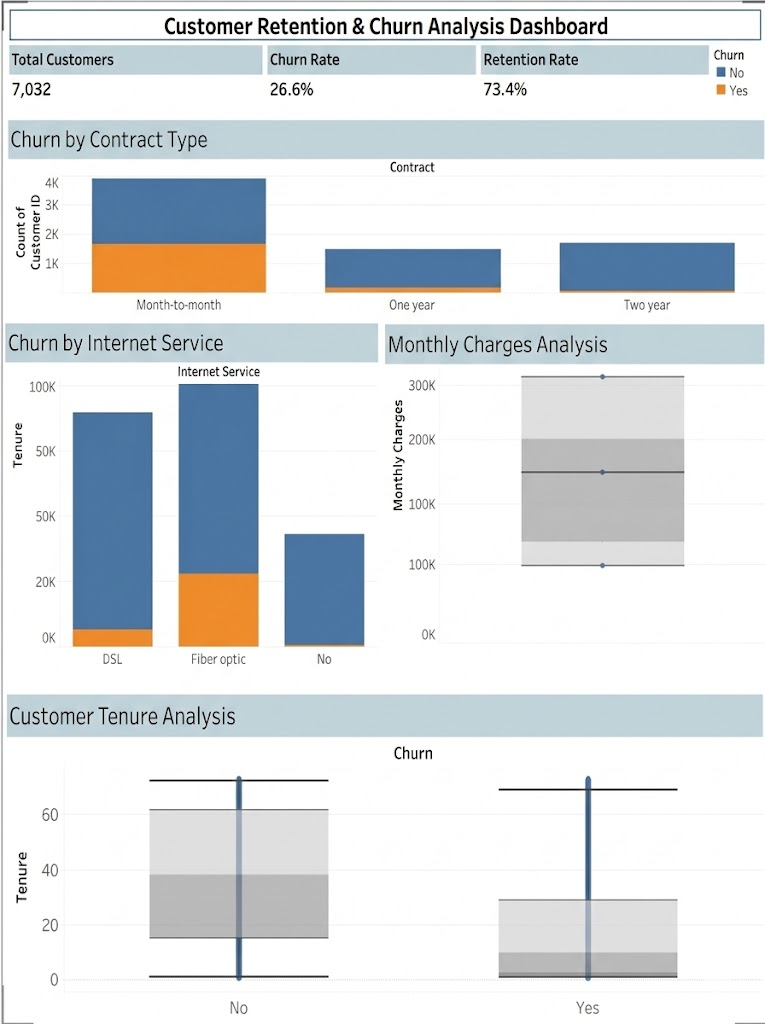

Layout of this report page (visuals, bound fields, positions):
{"tool":"tableau","page":{"name":" Customer Retention & Churn Analysis Dashboard","canvas":[650,860],"ordinal":0},"visuals":[{"type":"title","box":[8,8,634,96]},{"type":"worksheet","title":"Total Customers","mark":"Automatic","box":[8,104,185,136.9]},{"type":"worksheet","title":"Churn Rate","mark":"Automatic","box":[193,104,181.5,86]},{"type":"worksheet","title":"Retention Rate","mark":"Automatic","box":[374.5,104,181.5,748]},{"type":"legend","title":"Churn by Contract Type","param":"[federated.0wlgyas08j0bwf1blwffh1gomvmj].[none:Churn:nk]","box":[556,104,86,84]},{"type":"worksheet","title":"Monthly Charges Analysis","mark":"Circle","rows":["MonthlyCharges"],"box":[193,190,181.5,662]},{"type":"worksheet","title":"Churn by Contract Type","mark":"Automatic","rows":["customerID"],"cols":["Contract"],"box":[8,240.9,185,305.5]},{"type":"worksheet","title":"Churn by Internet Service","mark":"Automatic","rows":["tenure"],"cols":["InternetService"],"box":[8,546.4,185,152.8]},{"type":"worksheet","title":"Customer Tenure Analysis","mark":"Circle","rows":["tenure"],"cols":["Churn"],"box":[8,699.2,185,152.8]}]}

Visuals, with their boxes in screenshot pixels (x1, y1, x2, y2), scaled from the page's 650x860 canvas onto the 765x1024 screenshot:
title: pyautogui.locateOnScreen(9, 10, 756, 124)
"Total Customers" worksheet: pyautogui.locateOnScreen(9, 124, 227, 287)
"Churn Rate" worksheet: pyautogui.locateOnScreen(227, 124, 441, 226)
"Retention Rate" worksheet: pyautogui.locateOnScreen(441, 124, 654, 1014)
"Churn by Contract Type" legend: pyautogui.locateOnScreen(654, 124, 756, 224)
"Monthly Charges Analysis" worksheet (Circle marks): pyautogui.locateOnScreen(227, 226, 441, 1014)
"Churn by Contract Type" worksheet: pyautogui.locateOnScreen(9, 287, 227, 651)
"Churn by Internet Service" worksheet: pyautogui.locateOnScreen(9, 651, 227, 833)
"Customer Tenure Analysis" worksheet (Circle marks): pyautogui.locateOnScreen(9, 833, 227, 1014)
